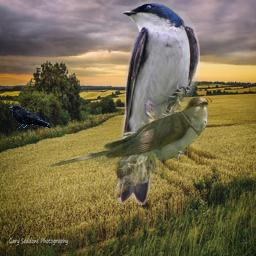Crow: (8, 105, 52, 129)
Cuckoo: (45, 95, 209, 170)
Swallow: (112, 0, 200, 205)
